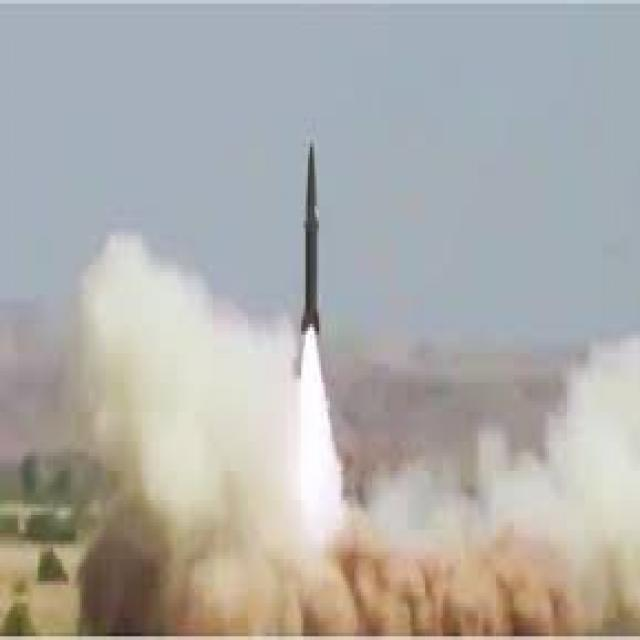missile: (303, 139, 321, 337)
